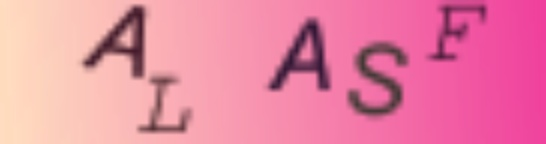A: (81, 3, 153, 82), (266, 16, 336, 94)
F: (427, 1, 498, 65)
L: (135, 75, 198, 136)
S: (345, 39, 407, 120)
